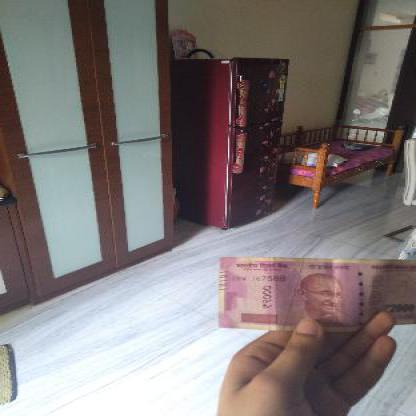New2000Front: (220, 259, 415, 333)
